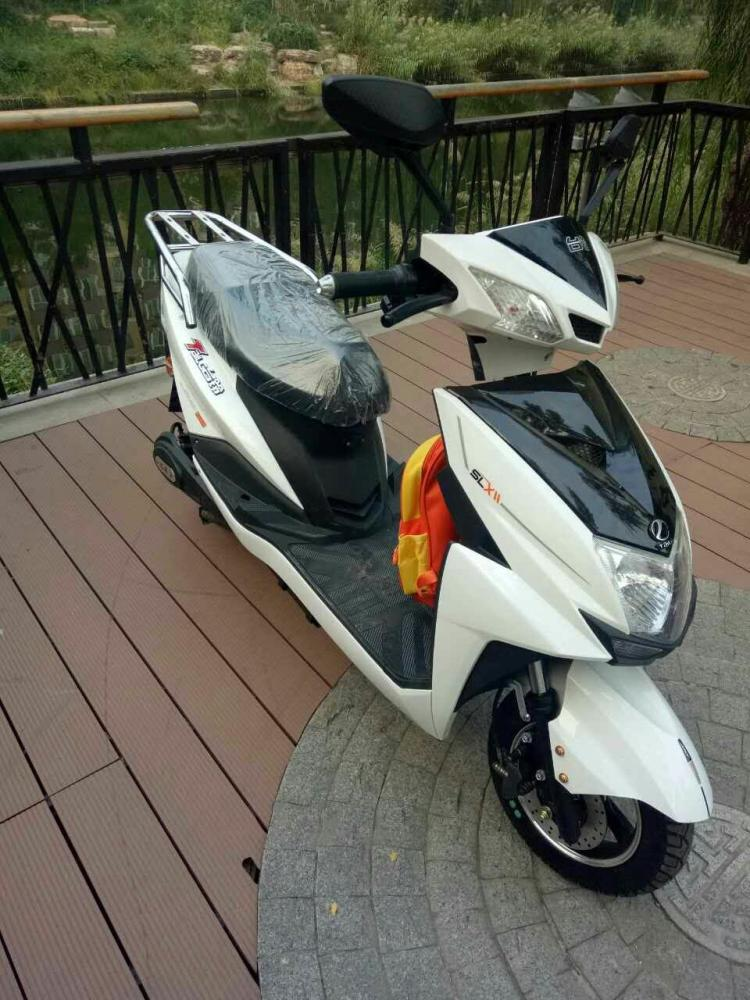电动车: (136, 62, 725, 901)
